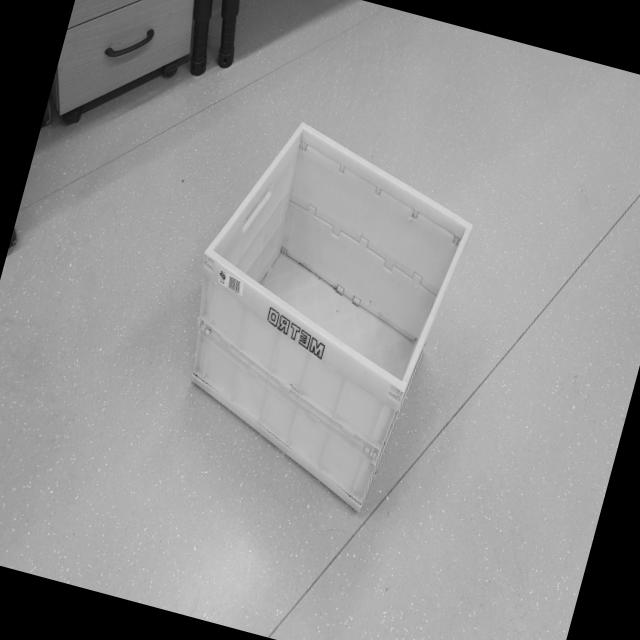box: (144, 90, 502, 527)
